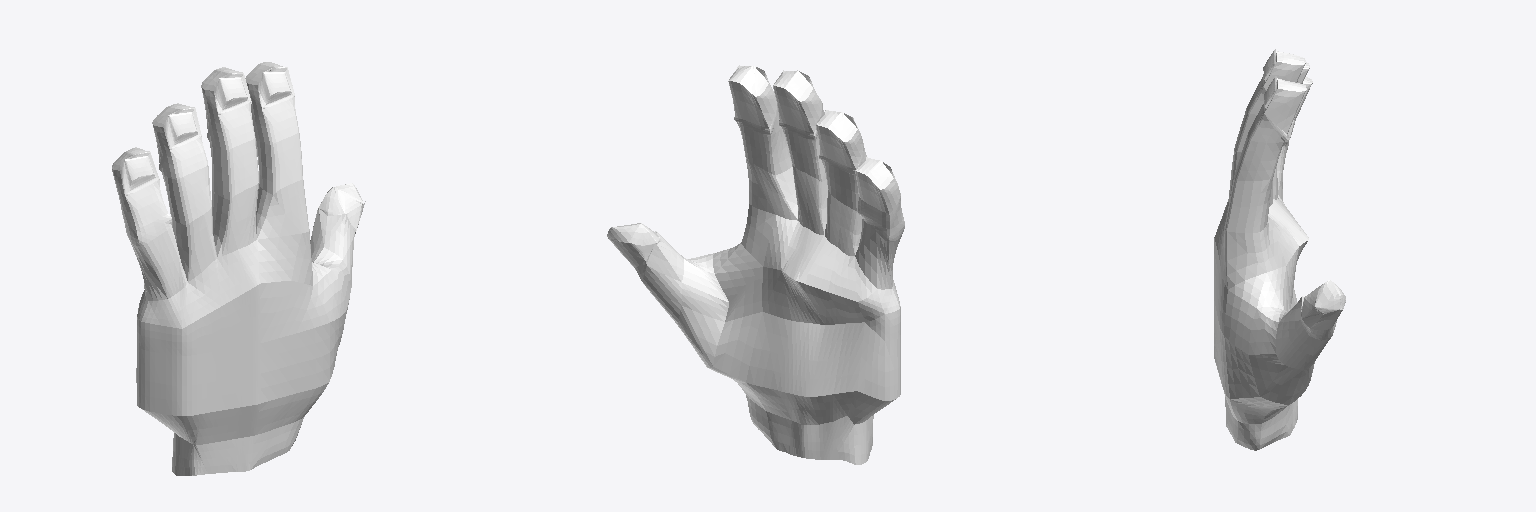
File: paperBB.obj
3 renders of one model, left to right at view 1: azimuth 30°, elevation 25°; view 2: azimuth 150°, elevation 25°; view 3: azimuth 270°, elevation 25°, orthographic.
Visible parts, largest first — view 1: Object.1; view 2: Object.1; view 3: Object.1.
Part boxes in pixels (x1,y1,x2,y2): Object.1: (112, 62, 365, 475); Object.1: (607, 65, 904, 464); Object.1: (1214, 49, 1345, 450).
Bounding box in the file's own units: 1.14 × 1.57 × 0.4905.